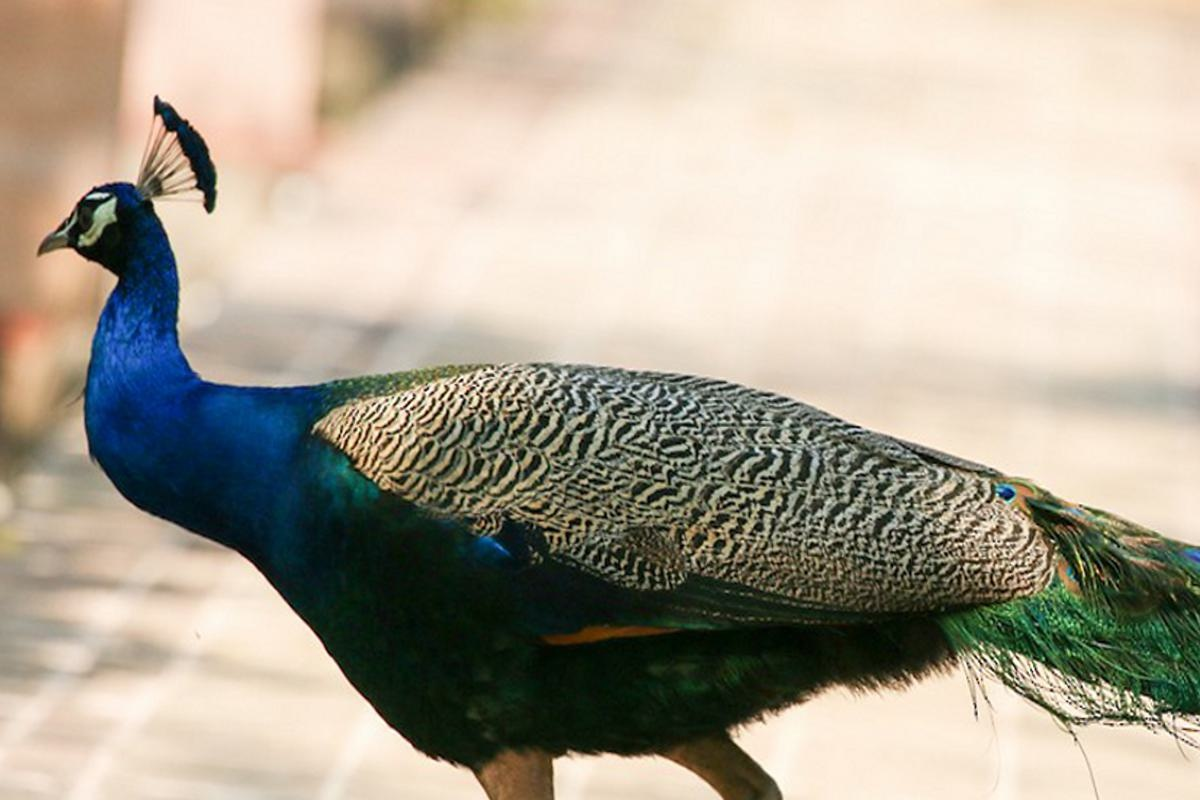peacock: (54, 104, 1088, 800)
